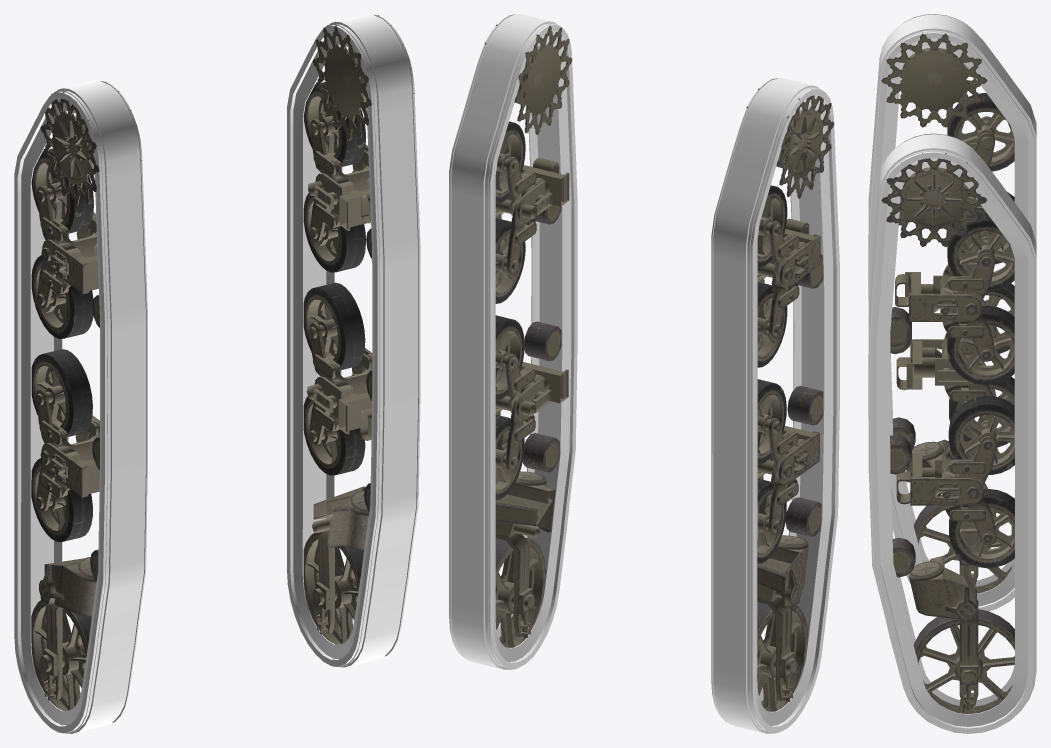
Rendered from Chassis.glb.
The picture shows the model from 3 angles, left to right: view 1: azimuth 30°, elevation 25°; view 2: azimuth 150°, elevation 25°; view 3: azimuth 270°, elevation 25°; orthographic projection. The views are drawn at different scales.
Visible parts, largest first — view 1: set_0_group_0, set_1_group_0, set_3_group_0, set_2_group_0; view 2: set_0_group_0, set_1_group_0, set_3_group_0, set_2_group_0; view 3: set_3_group_0, set_1_group_0, set_2_group_0, set_0_group_0.
Boxes of the visible parts, <box> form: set_0_group_0: <box>14,80,147,733</box>; set_1_group_0: <box>287,14,420,667</box>; set_3_group_0: <box>303,15,414,644</box>; set_2_group_0: <box>31,81,142,710</box>; set_0_group_0: <box>711,78,839,733</box>; set_1_group_0: <box>449,14,577,669</box>; set_3_group_0: <box>484,24,572,648</box>; set_2_group_0: <box>746,88,834,711</box>; set_3_group_0: <box>881,153,1014,713</box>; set_1_group_0: <box>868,133,1036,733</box>; set_2_group_0: <box>881,24,1014,593</box>; set_0_group_0: <box>868,14,1036,611</box>.
Size of the model in its own units: 2.26 by 4.25 by 1.11.
Materials: 4 (2 with a texture image).
